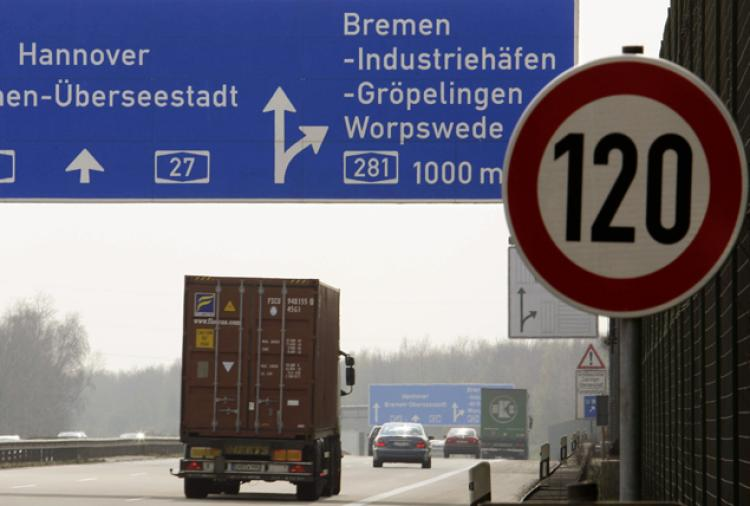Speed_limit_120km: (502, 53, 749, 316)
